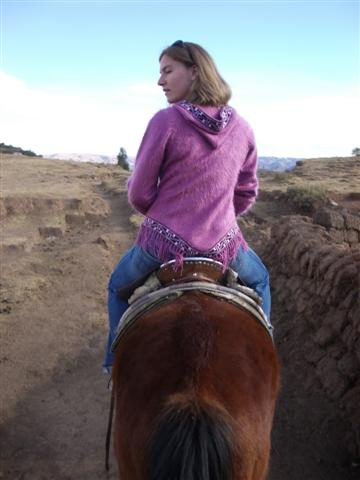person: (105, 42, 273, 372)
